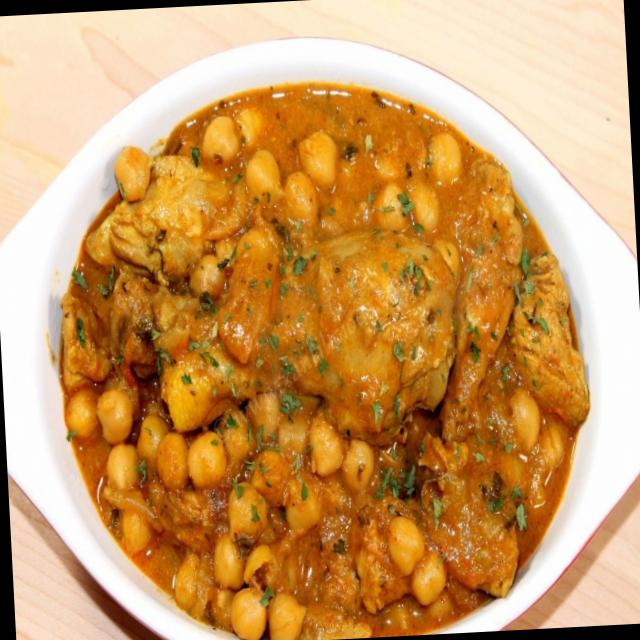Chole: (45, 68, 601, 640)
